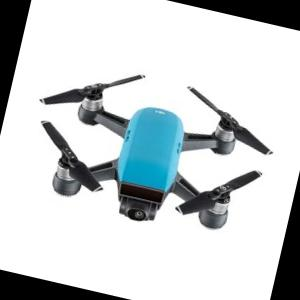drone: (15, 48, 298, 248)
